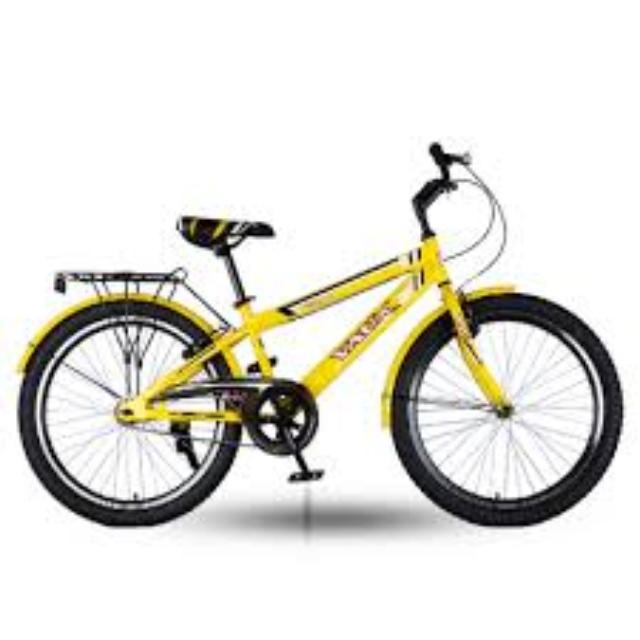obstacle: (26, 130, 640, 548)
